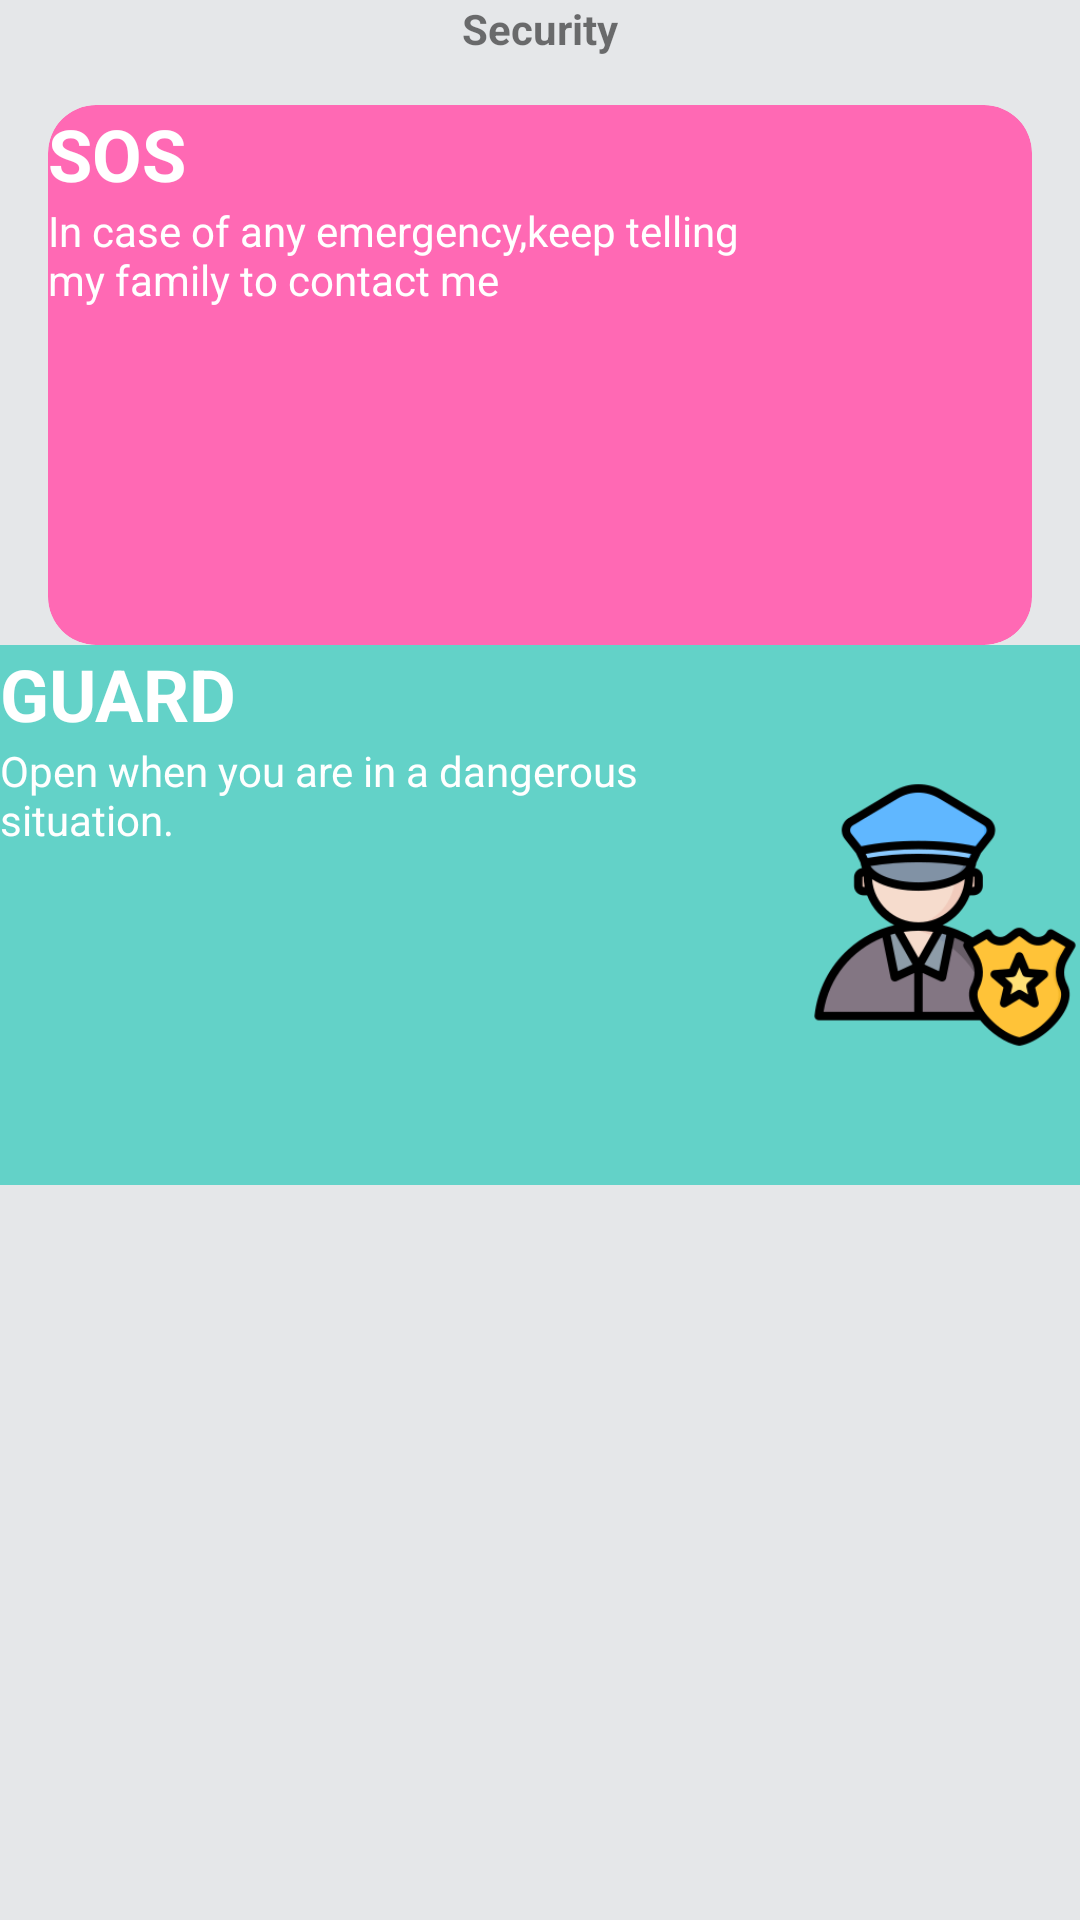

Where icons sit on this 1080px x 1920px app screen, as box=[x1, y1, x2, y2]:
guard: box=[814, 784, 1076, 1046]
